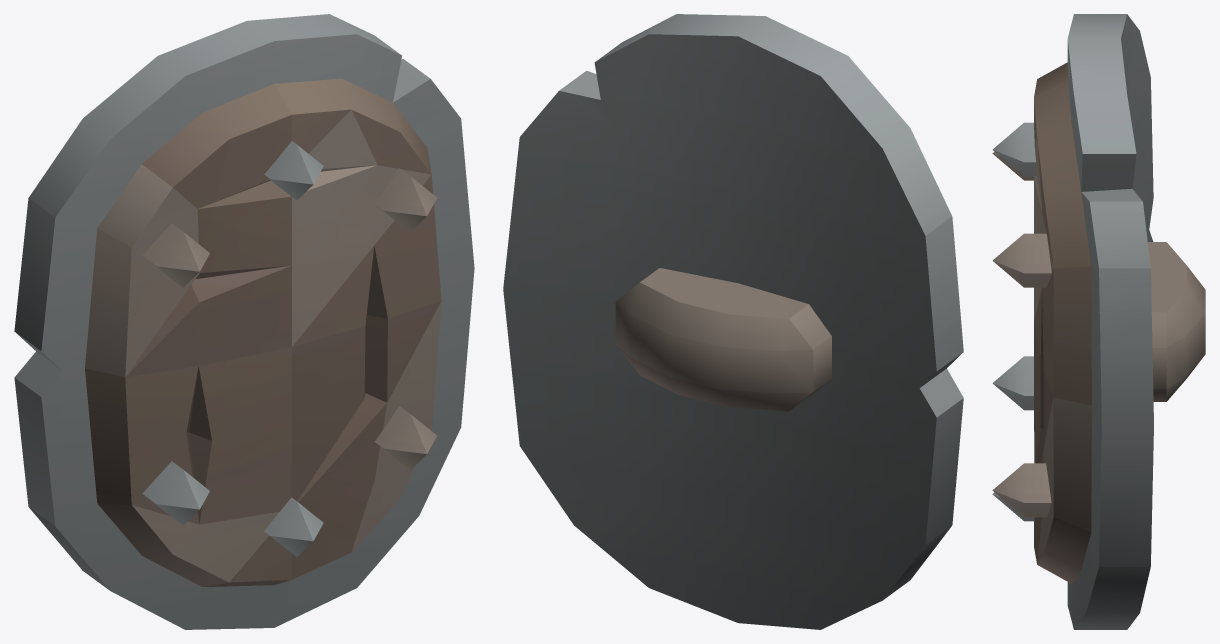
File: skeleton-shield-large-b.glb
The picture shows the model from 3 angles, left to right: view 1: azimuth 30°, elevation 25°; view 2: azimuth 150°, elevation 25°; view 3: azimuth 270°, elevation 25°; orthographic projection. The views are drawn at different scales.
Parts seen in each view (by area): view 1: Skeleton_Shield_Large_B; view 2: Skeleton_Shield_Large_B; view 3: Skeleton_Shield_Large_B.
Part boxes in pixels (x1=…): Skeleton_Shield_Large_B: x1=14, y1=14, x2=474, y2=629; Skeleton_Shield_Large_B: x1=503, y1=14, x2=963, y2=629; Skeleton_Shield_Large_B: x1=992, y1=14, x2=1205, y2=629.
Size of the model in its own units: 0.8771 by 1.13 by 0.387.
Materials: 1 (1 with a texture image).
